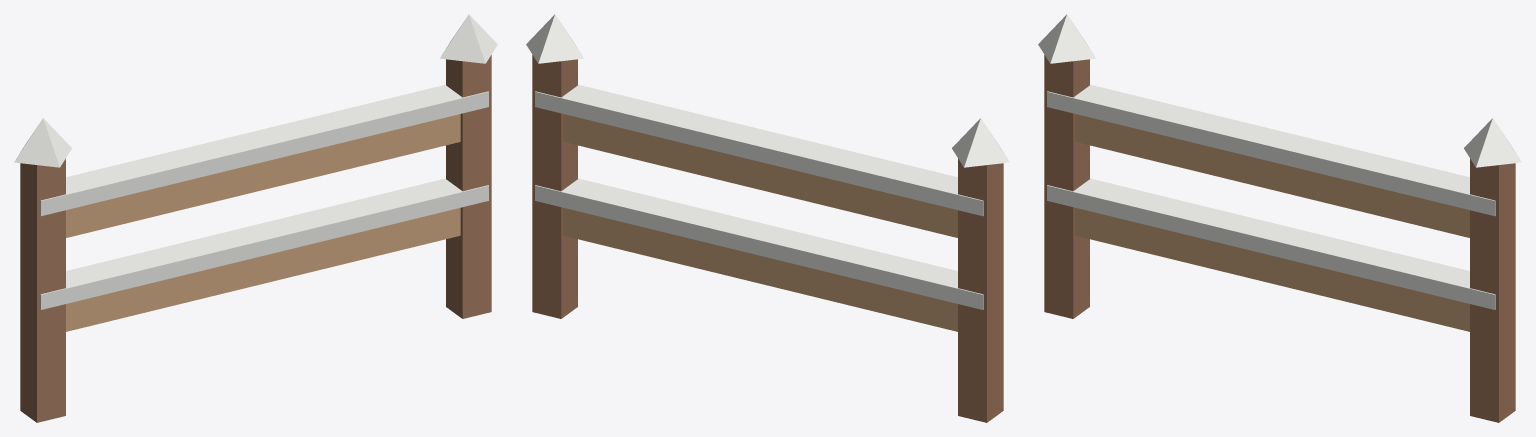
Rendered from rail_fence.glb.
3 renders of one model, left to right at view 1: azimuth 30°, elevation 25°; view 2: azimuth 150°, elevation 25°; view 3: azimuth 330°, elevation 25°, orthographic.
Parts seen in each view (by area): view 1: snow-rail-fence-snow, snow-rail-fence-cedar, snow-rail-fence-wood; view 2: snow-rail-fence-snow, snow-rail-fence-cedar, snow-rail-fence-wood; view 3: snow-rail-fence-snow, snow-rail-fence-cedar, snow-rail-fence-wood.
Part boxes in pixels (x1=…): snow-rail-fence-snow: x1=14, y1=14, x2=497, y2=309; snow-rail-fence-cedar: x1=66, y1=114, x2=460, y2=331; snow-rail-fence-wood: x1=20, y1=55, x2=491, y2=422; snow-rail-fence-snow: x1=526, y1=14, x2=1009, y2=309; snow-rail-fence-cedar: x1=563, y1=114, x2=957, y2=331; snow-rail-fence-wood: x1=532, y1=55, x2=1003, y2=422; snow-rail-fence-snow: x1=1038, y1=14, x2=1521, y2=309; snow-rail-fence-cedar: x1=1075, y1=114, x2=1469, y2=331; snow-rail-fence-wood: x1=1044, y1=55, x2=1515, y2=422.
Bounding box in the file's own units: 2.16 × 1.26 × 0.26.
